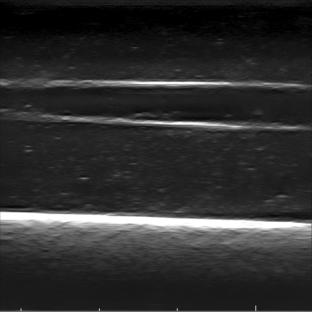vessel: (7, 79, 311, 129)
